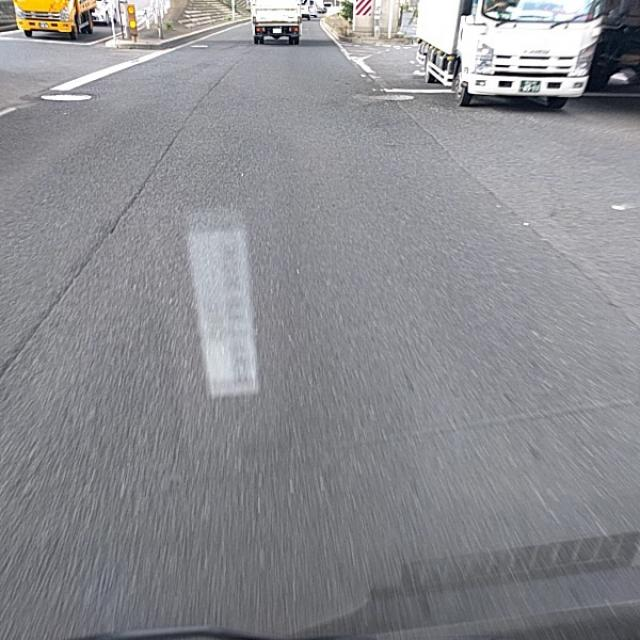pothole: (75, 255, 95, 283)
